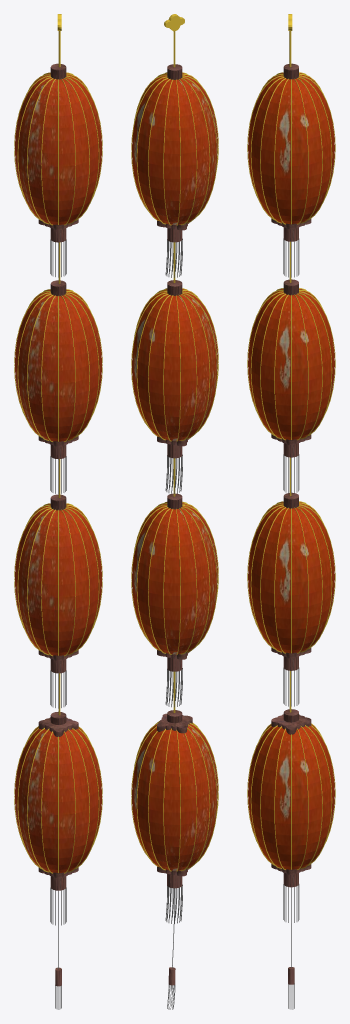
3 views of the same model, side by side, from view 1: azimuth 90°, elevation 25°; view 2: azimuth 210°, elevation 25°; view 3: azimuth 270°, elevation 25° (orthographic).
Parts seen in each view (by area): view 1: qingmo_obj_3105 [3851306], qingmo_obj_3084 [3851243], qingmo_obj_3099 [3851288], qingmo_obj_3086 [3851249], qingmo_obj_3106 [3851309], qingmo_obj_3096 [3851279], qingmo_obj_3100 [3851291], qingmo_obj_3085 [3851246], qingmo_obj_3089 [3851258], qingmo_obj_3088 [3851255], qingmo_obj_3094 [3851273], qingmo_obj_3104 [3851303] (+5 smaller); view 2: qingmo_obj_3084 [3851243], qingmo_obj_3105 [3851306], qingmo_obj_3099 [3851288], qingmo_obj_3086 [3851249], qingmo_obj_3106 [3851309], qingmo_obj_3100 [3851291], qingmo_obj_3096 [3851279], qingmo_obj_3085 [3851246], qingmo_obj_3089 [3851258], qingmo_obj_3088 [3851255], qingmo_obj_3108 [3851315], qingmo_obj_3102 [3851297] (+6 smaller); view 3: qingmo_obj_3105 [3851306], qingmo_obj_3084 [3851243], qingmo_obj_3099 [3851288], qingmo_obj_3086 [3851249], qingmo_obj_3106 [3851309], qingmo_obj_3096 [3851279], qingmo_obj_3100 [3851291], qingmo_obj_3085 [3851246], qingmo_obj_3089 [3851258], qingmo_obj_3088 [3851255], qingmo_obj_3098 [3851285], qingmo_obj_3104 [3851303] (+5 smaller).
Part boxes in pixels (bbox=[...]): qingmo_obj_3105 [3851306]: bbox=[15, 73, 101, 224]; qingmo_obj_3084 [3851243]: bbox=[15, 504, 101, 655]; qingmo_obj_3099 [3851288]: bbox=[15, 290, 101, 441]; qingmo_obj_3086 [3851249]: bbox=[15, 727, 101, 872]; qingmo_obj_3106 [3851309]: bbox=[14, 72, 102, 225]; qingmo_obj_3096 [3851279]: bbox=[14, 503, 102, 656]; qingmo_obj_3100 [3851291]: bbox=[14, 289, 102, 441]; qingmo_obj_3085 [3851246]: bbox=[14, 726, 102, 873]; qingmo_obj_3089 [3851258]: bbox=[50, 887, 66, 1009]; qingmo_obj_3088 [3851255]: bbox=[50, 711, 66, 986]; qingmo_obj_3094 [3851273]: bbox=[50, 494, 66, 673]; qingmo_obj_3104 [3851303]: bbox=[50, 63, 66, 242]; qingmo_obj_3084 [3851243]: bbox=[132, 502, 217, 654]; qingmo_obj_3105 [3851306]: bbox=[132, 73, 217, 224]; qingmo_obj_3099 [3851288]: bbox=[132, 289, 217, 440]; qingmo_obj_3086 [3851249]: bbox=[132, 722, 217, 870]; qingmo_obj_3106 [3851309]: bbox=[131, 72, 218, 225]; qingmo_obj_3100 [3851291]: bbox=[131, 288, 218, 441]; qingmo_obj_3096 [3851279]: bbox=[131, 501, 218, 654]; qingmo_obj_3085 [3851246]: bbox=[131, 721, 218, 871]; qingmo_obj_3089 [3851258]: bbox=[165, 884, 182, 1009]; qingmo_obj_3088 [3851255]: bbox=[167, 710, 182, 985]; qingmo_obj_3108 [3851315]: bbox=[165, 238, 182, 277]; qingmo_obj_3102 [3851297]: bbox=[165, 454, 182, 493]; qingmo_obj_3105 [3851306]: bbox=[248, 73, 334, 224]; qingmo_obj_3084 [3851243]: bbox=[248, 502, 334, 653]; qingmo_obj_3099 [3851288]: bbox=[248, 289, 334, 439]; qingmo_obj_3086 [3851249]: bbox=[248, 724, 334, 869]; qingmo_obj_3106 [3851309]: bbox=[247, 72, 335, 224]; qingmo_obj_3096 [3851279]: bbox=[247, 501, 335, 653]; qingmo_obj_3100 [3851291]: bbox=[247, 288, 335, 440]; qingmo_obj_3085 [3851246]: bbox=[247, 723, 335, 869]; qingmo_obj_3089 [3851258]: bbox=[283, 884, 299, 1009]; qingmo_obj_3088 [3851255]: bbox=[283, 709, 298, 984]; qingmo_obj_3098 [3851285]: bbox=[283, 279, 298, 457]; qingmo_obj_3104 [3851303]: bbox=[283, 63, 298, 241].
Size of the model in its own units: 2.42 by 2.42 by 29.96.
4 materials, 2 textured.
